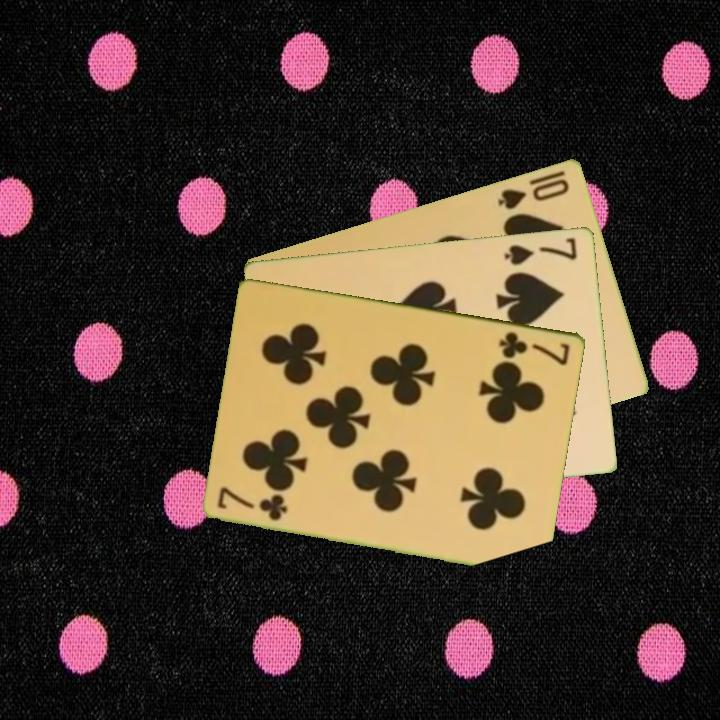10s: (494, 174, 573, 212)
7c: (495, 328, 573, 368), (215, 485, 291, 524)
7s: (501, 233, 580, 268)
